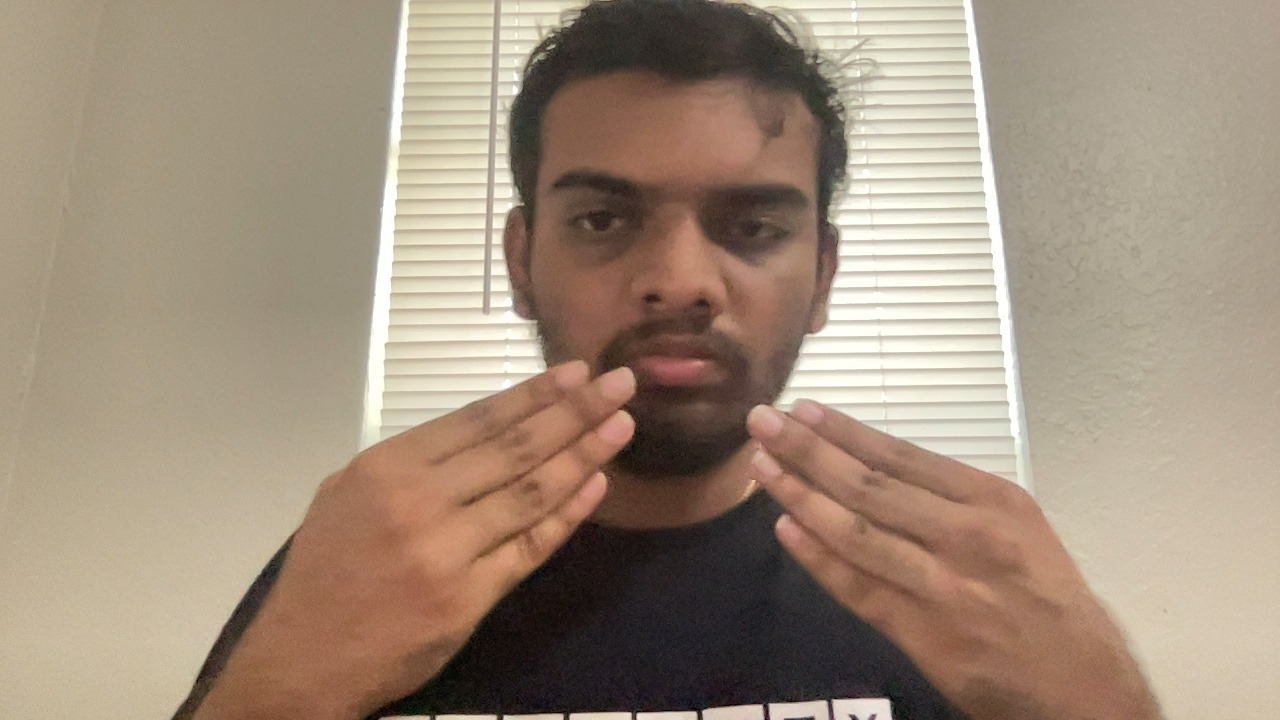thanks: (185, 358, 1170, 706)
